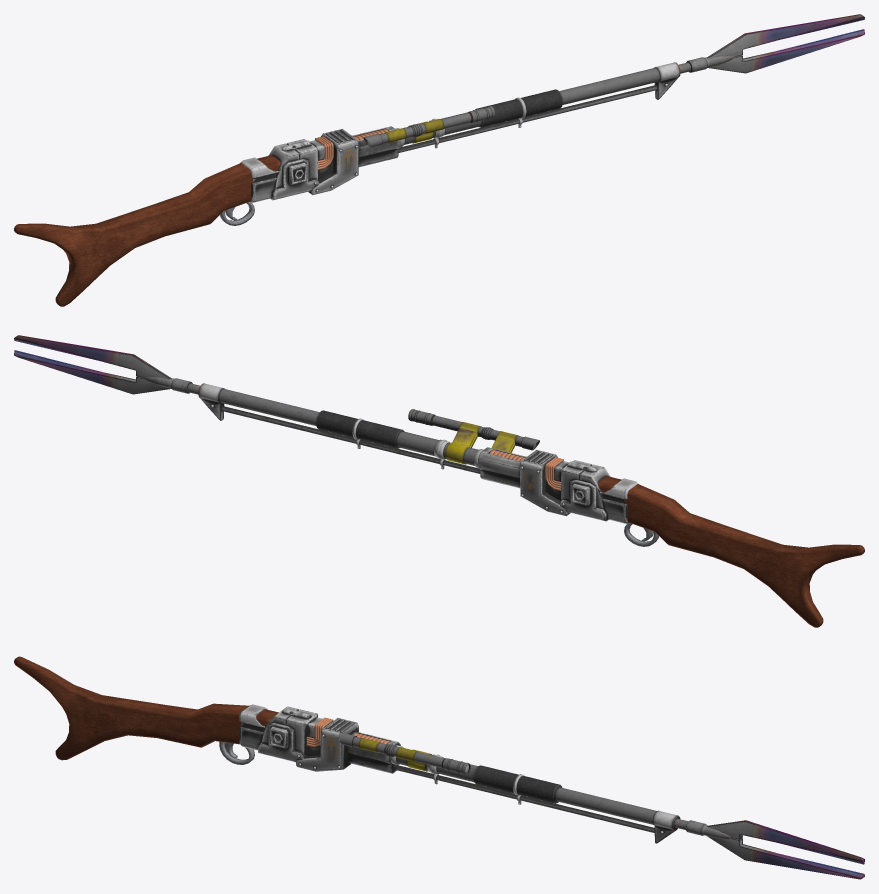
3 renders of one model, top to bottom at view 1: azimuth 30°, elevation 25°; view 2: azimuth 150°, elevation 25°; view 3: azimuth 330°, elevation 25°, orthographic.
Parts seen in each view (by area): view 1: polySurface16; view 2: polySurface16; view 3: polySurface16.
Boxes of the visible parts, left/top/right/bottom form: polySurface16: left=14, top=14, right=864, bottom=306; polySurface16: left=14, top=335, right=864, bottom=627; polySurface16: left=14, top=656, right=864, bottom=879.
Bounding box in the file's own units: 1864 × 225 × 101.
Materials: 2 (2 with a texture image).
